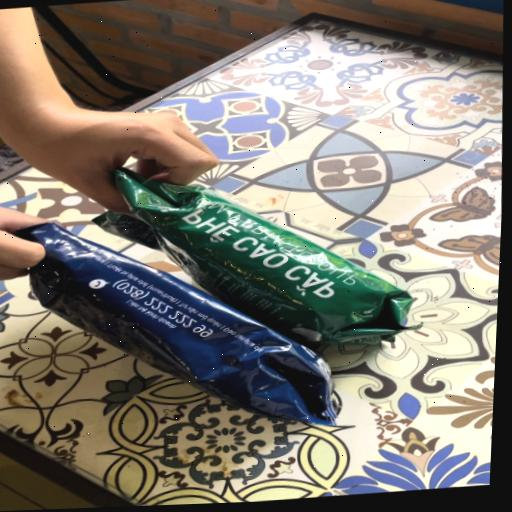cafe_hat: (16, 222, 336, 425)
cafe_xay: (96, 168, 421, 348)
